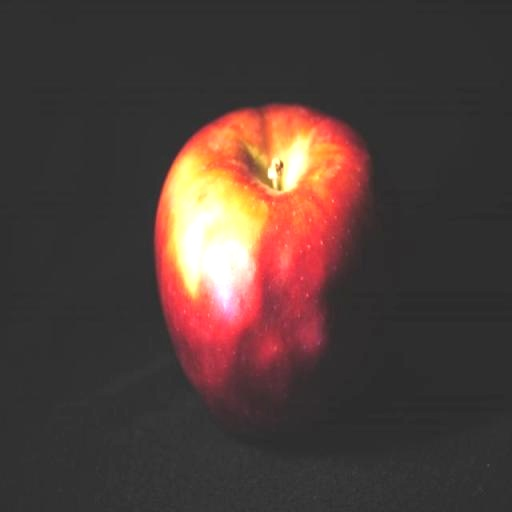fruit: (156, 105, 371, 431)
